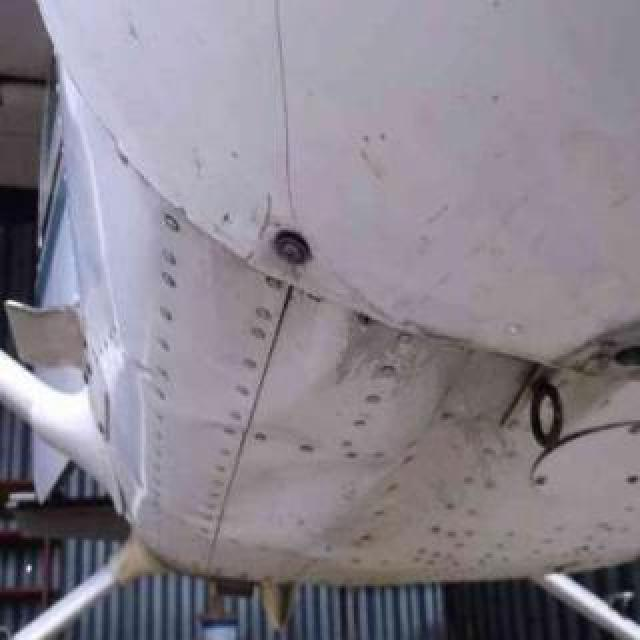crack: (268, 0, 302, 232)
